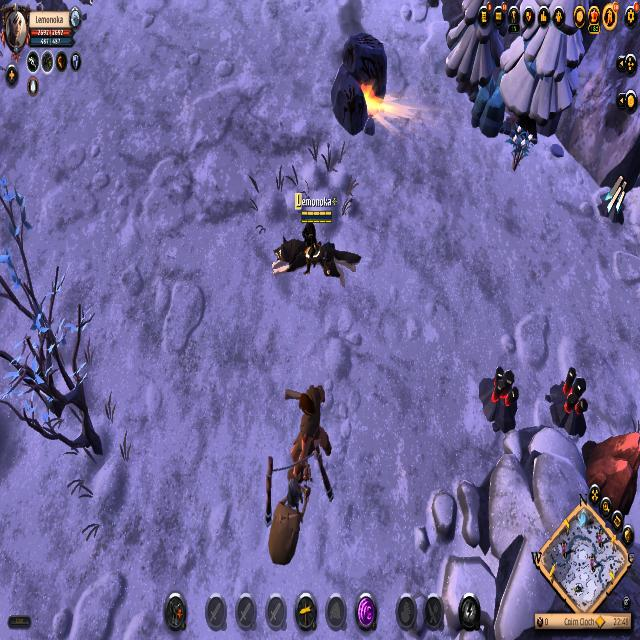fiber tier 4: (508, 125, 534, 173)
ore tier 4: (598, 169, 628, 229)
ore tier 5: (480, 361, 523, 435), (547, 367, 591, 438)
